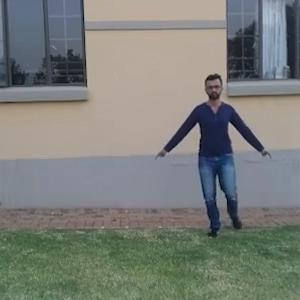land: (169, 81, 264, 226)
